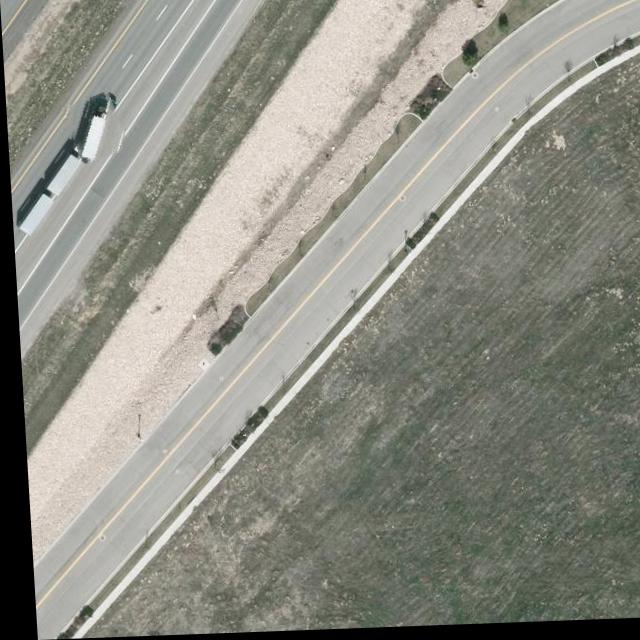vehicle: (64, 94, 125, 162)
